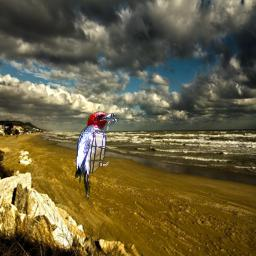Woodpecker: (75, 111, 121, 201)
